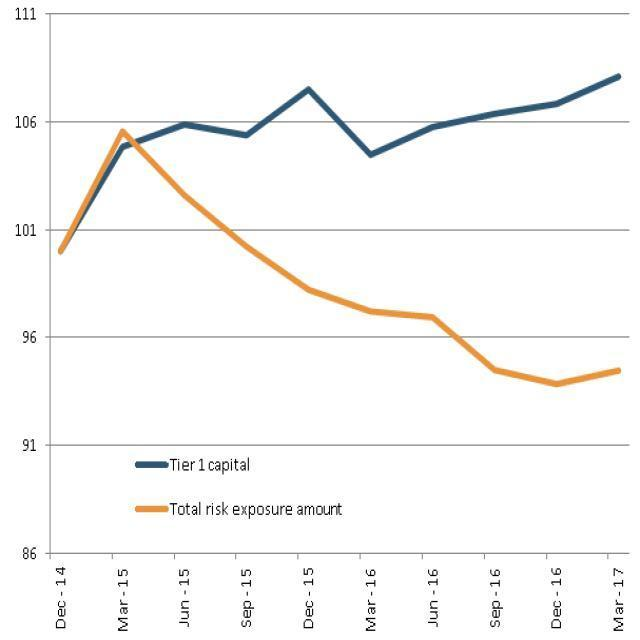axis: (43, 2, 56, 565), (43, 550, 635, 562)
line: (55, 124, 626, 391), (54, 70, 625, 256)
